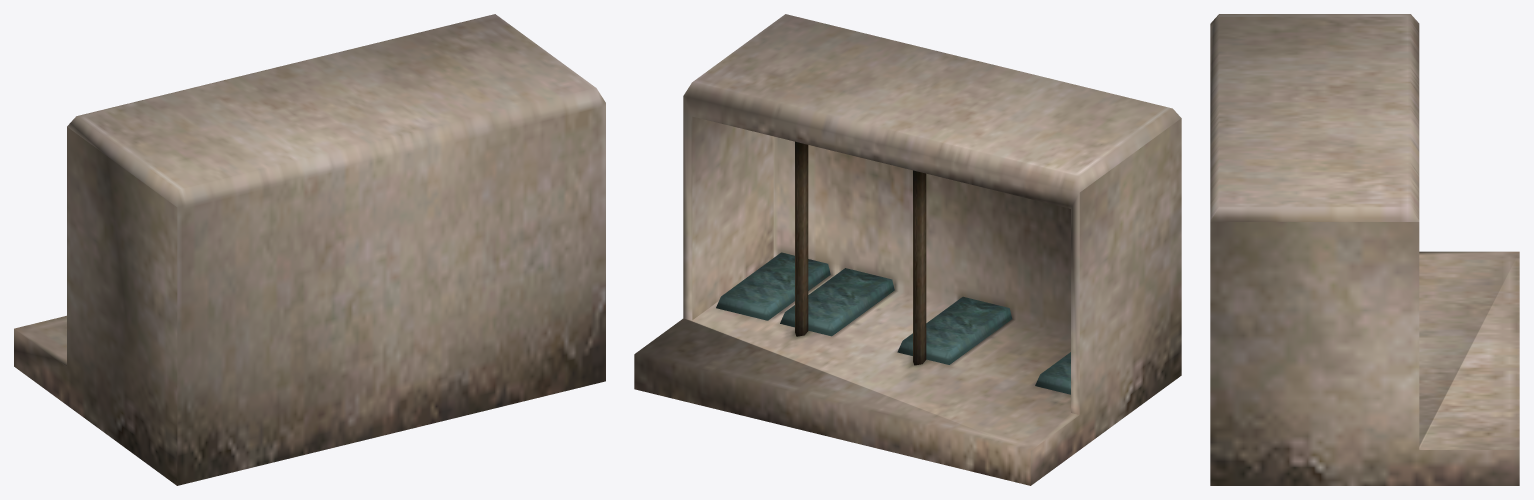
Rendered from stbuho44.dae.
3 renders of one model, left to right at view 1: azimuth 30°, elevation 25°; view 2: azimuth 150°, elevation 25°; view 3: azimuth 270°, elevation 25°, orthographic. The views are drawn at different scales.
Visible parts, largest first — view 1: veranda1; view 2: veranda1; view 3: veranda1.
Part boxes in pixels (x1,y1,x2,y2): veranda1: (14, 14, 605, 485); veranda1: (634, 14, 1181, 485); veranda1: (1210, 14, 1519, 485).
Size of the model in its own units: 2.26 by 1.49 by 1.47.
Materials: 1 (1 with a texture image).
